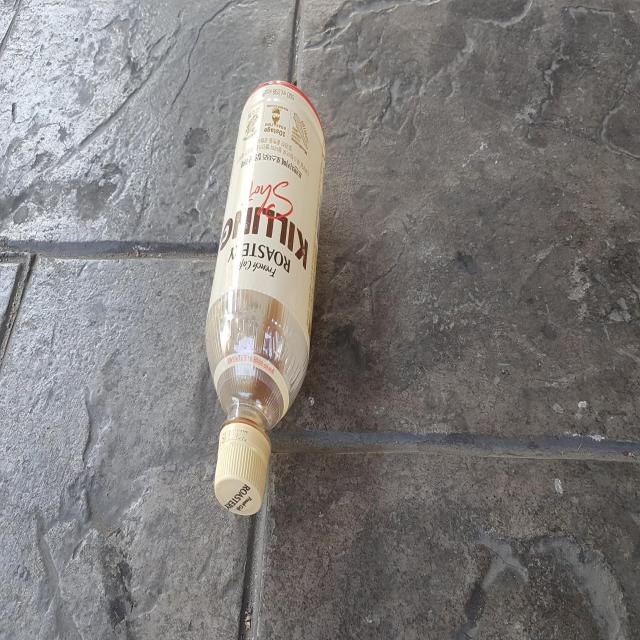plastic: (206, 79, 326, 515)
